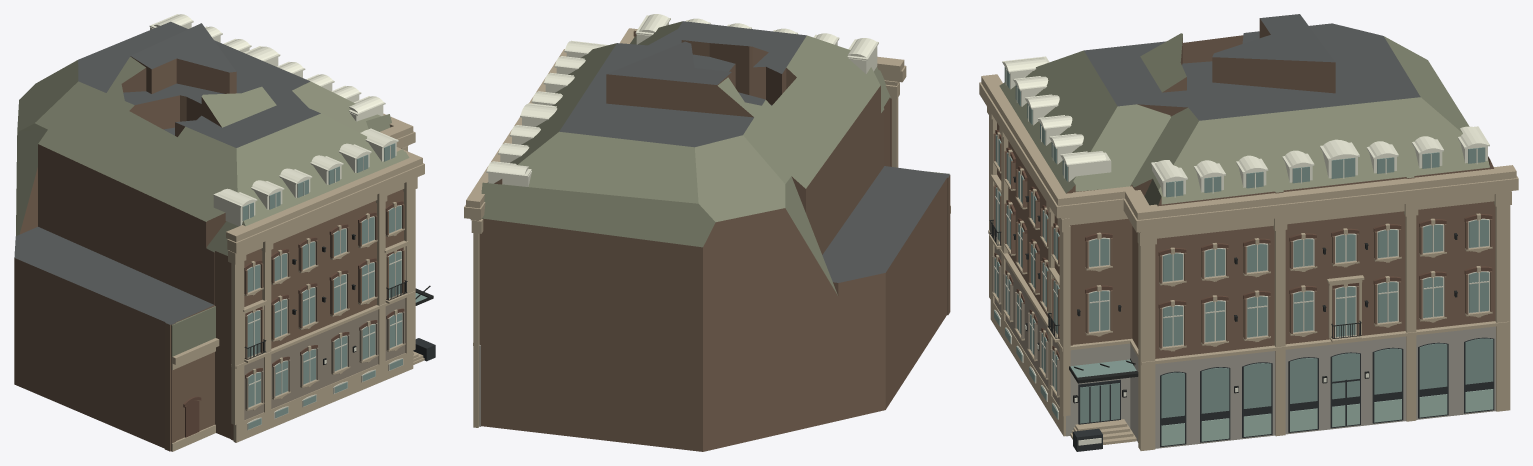
The model's file is hotel-notting-hill.glb.
3 views of the same model, side by side, from view 1: azimuth 30°, elevation 25°; view 2: azimuth 150°, elevation 25°; view 3: azimuth 270°, elevation 25° (orthographic). The views are drawn at different scales.
Visible parts, largest first — view 1: hotel-notting-hill; view 2: hotel-notting-hill; view 3: hotel-notting-hill.
Boxes of the visible parts, x1,y1,x2,y2 form: hotel-notting-hill: (14, 14, 435, 451); hotel-notting-hill: (464, 14, 950, 451); hotel-notting-hill: (979, 14, 1518, 451).
Size of the model in its own units: 27.33 by 21.03 by 31.93.
